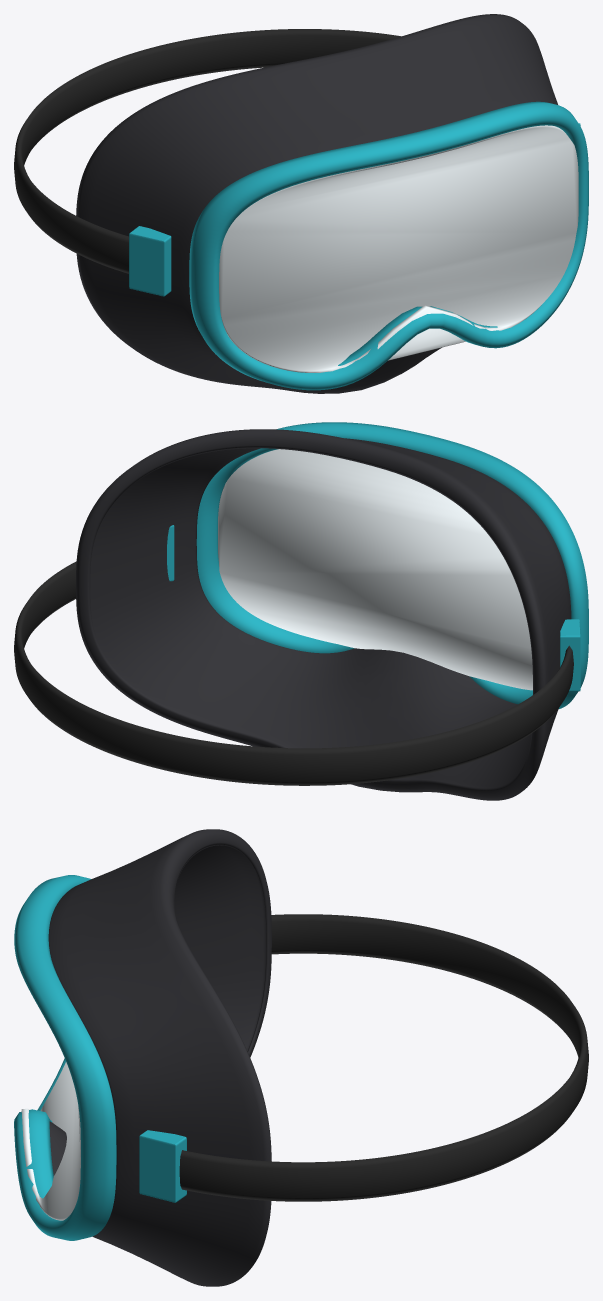
File: DivingMask.fbx
3 renders of one model, top to bottom at view 1: azimuth 30°, elevation 25°; view 2: azimuth 150°, elevation 25°; view 3: azimuth 270°, elevation 25°, orthographic. The views are drawn at different scales.
Parts seen in each view (by area): view 1: DivingMask; view 2: DivingMask; view 3: DivingMask.
Part boxes in pixels (x1=…): DivingMask: x1=14, y1=14, x2=588, y2=393; DivingMask: x1=14, y1=422, x2=588, y2=800; DivingMask: x1=14, y1=829, x2=588, y2=1286.
Size of the model in its own units: 0.2365 by 0.1573 by 0.2278.
